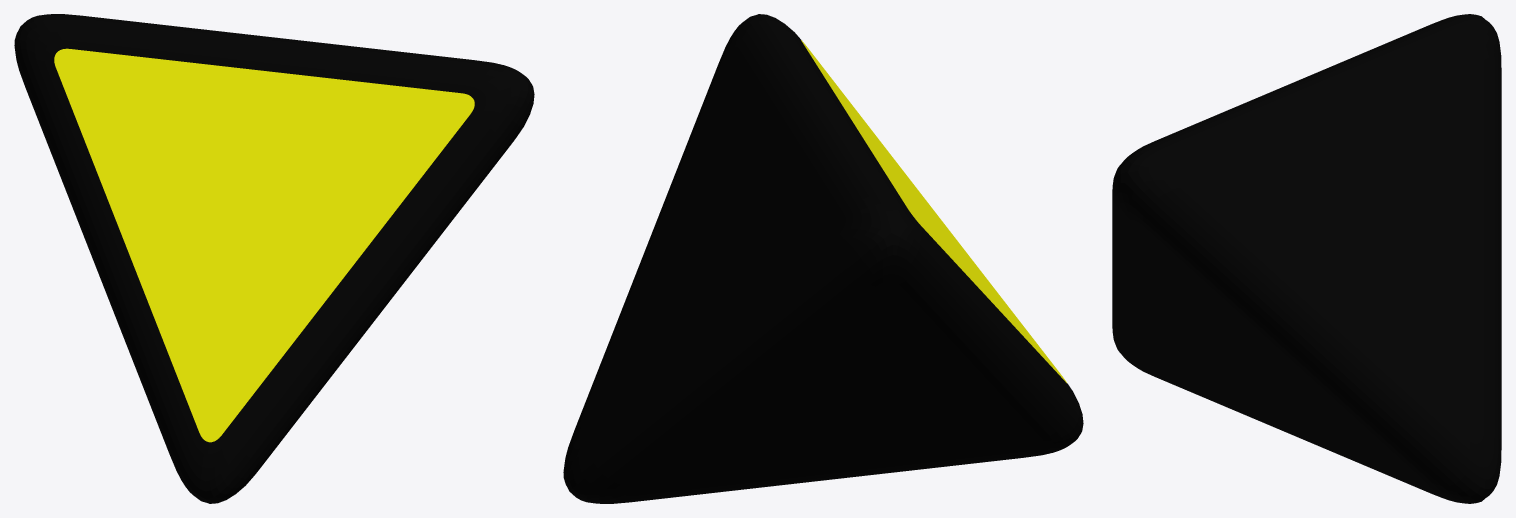
The model's file is t_yellow.fbx.
3 renders of one model, left to right at view 1: azimuth 30°, elevation 25°; view 2: azimuth 150°, elevation 25°; view 3: azimuth 270°, elevation 25°, orthographic. The views are drawn at different scales.
Visible parts, largest first — view 1: t_yellow; view 2: t_yellow; view 3: t_yellow.
Boxes of the visible parts, left/top/right/bottom form: t_yellow: left=14, top=14, right=534, bottom=503; t_yellow: left=563, top=14, right=1083, bottom=503; t_yellow: left=1112, top=14, right=1501, bottom=503.
Size of the model in its own units: 88.28 by 88.28 by 88.28.
